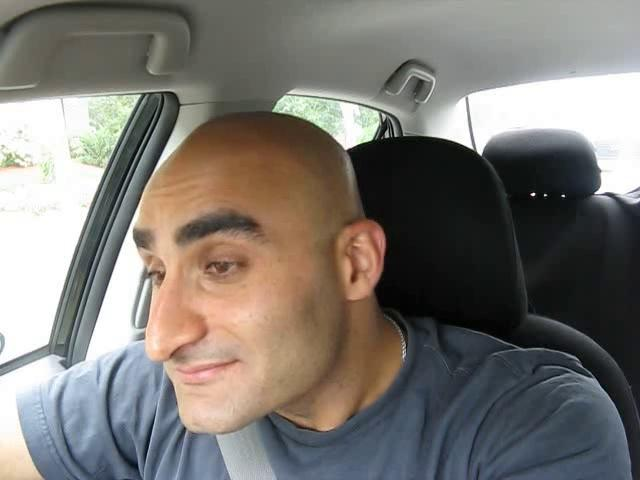no_yawn: (152, 341, 255, 401)
open_eyeL: (144, 256, 171, 291)
open_eyeR: (185, 241, 260, 294)
